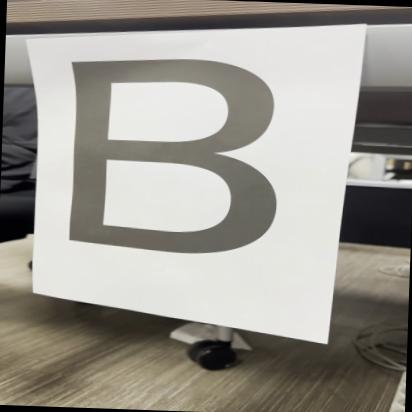seat: (43, 52, 324, 279)
